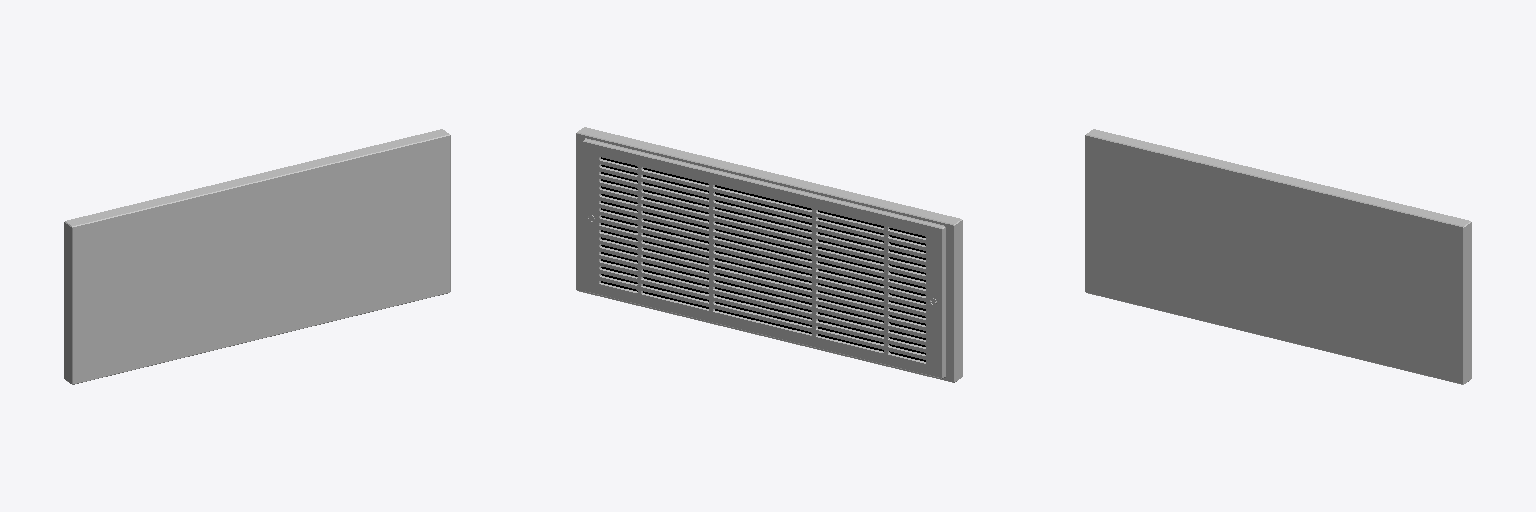
File: vents.obj
The picture shows the model from 3 angles: view 1: azimuth 30°, elevation 25°; view 2: azimuth 150°, elevation 25°; view 3: azimuth 330°, elevation 25°; orthographic projection.
Parts seen in each view (by area): view 1: Frame_Cube; view 2: Frame_Cube; view 3: Frame_Cube.
Part boxes in pixels (left/top/right/bottom): Frame_Cube: left=64, top=129, right=450, bottom=384; Frame_Cube: left=576, top=127, right=962, bottom=382; Frame_Cube: left=1085, top=129, right=1471, bottom=384.
Bounding box in the file's own units: 10 × 4 × 0.5062.